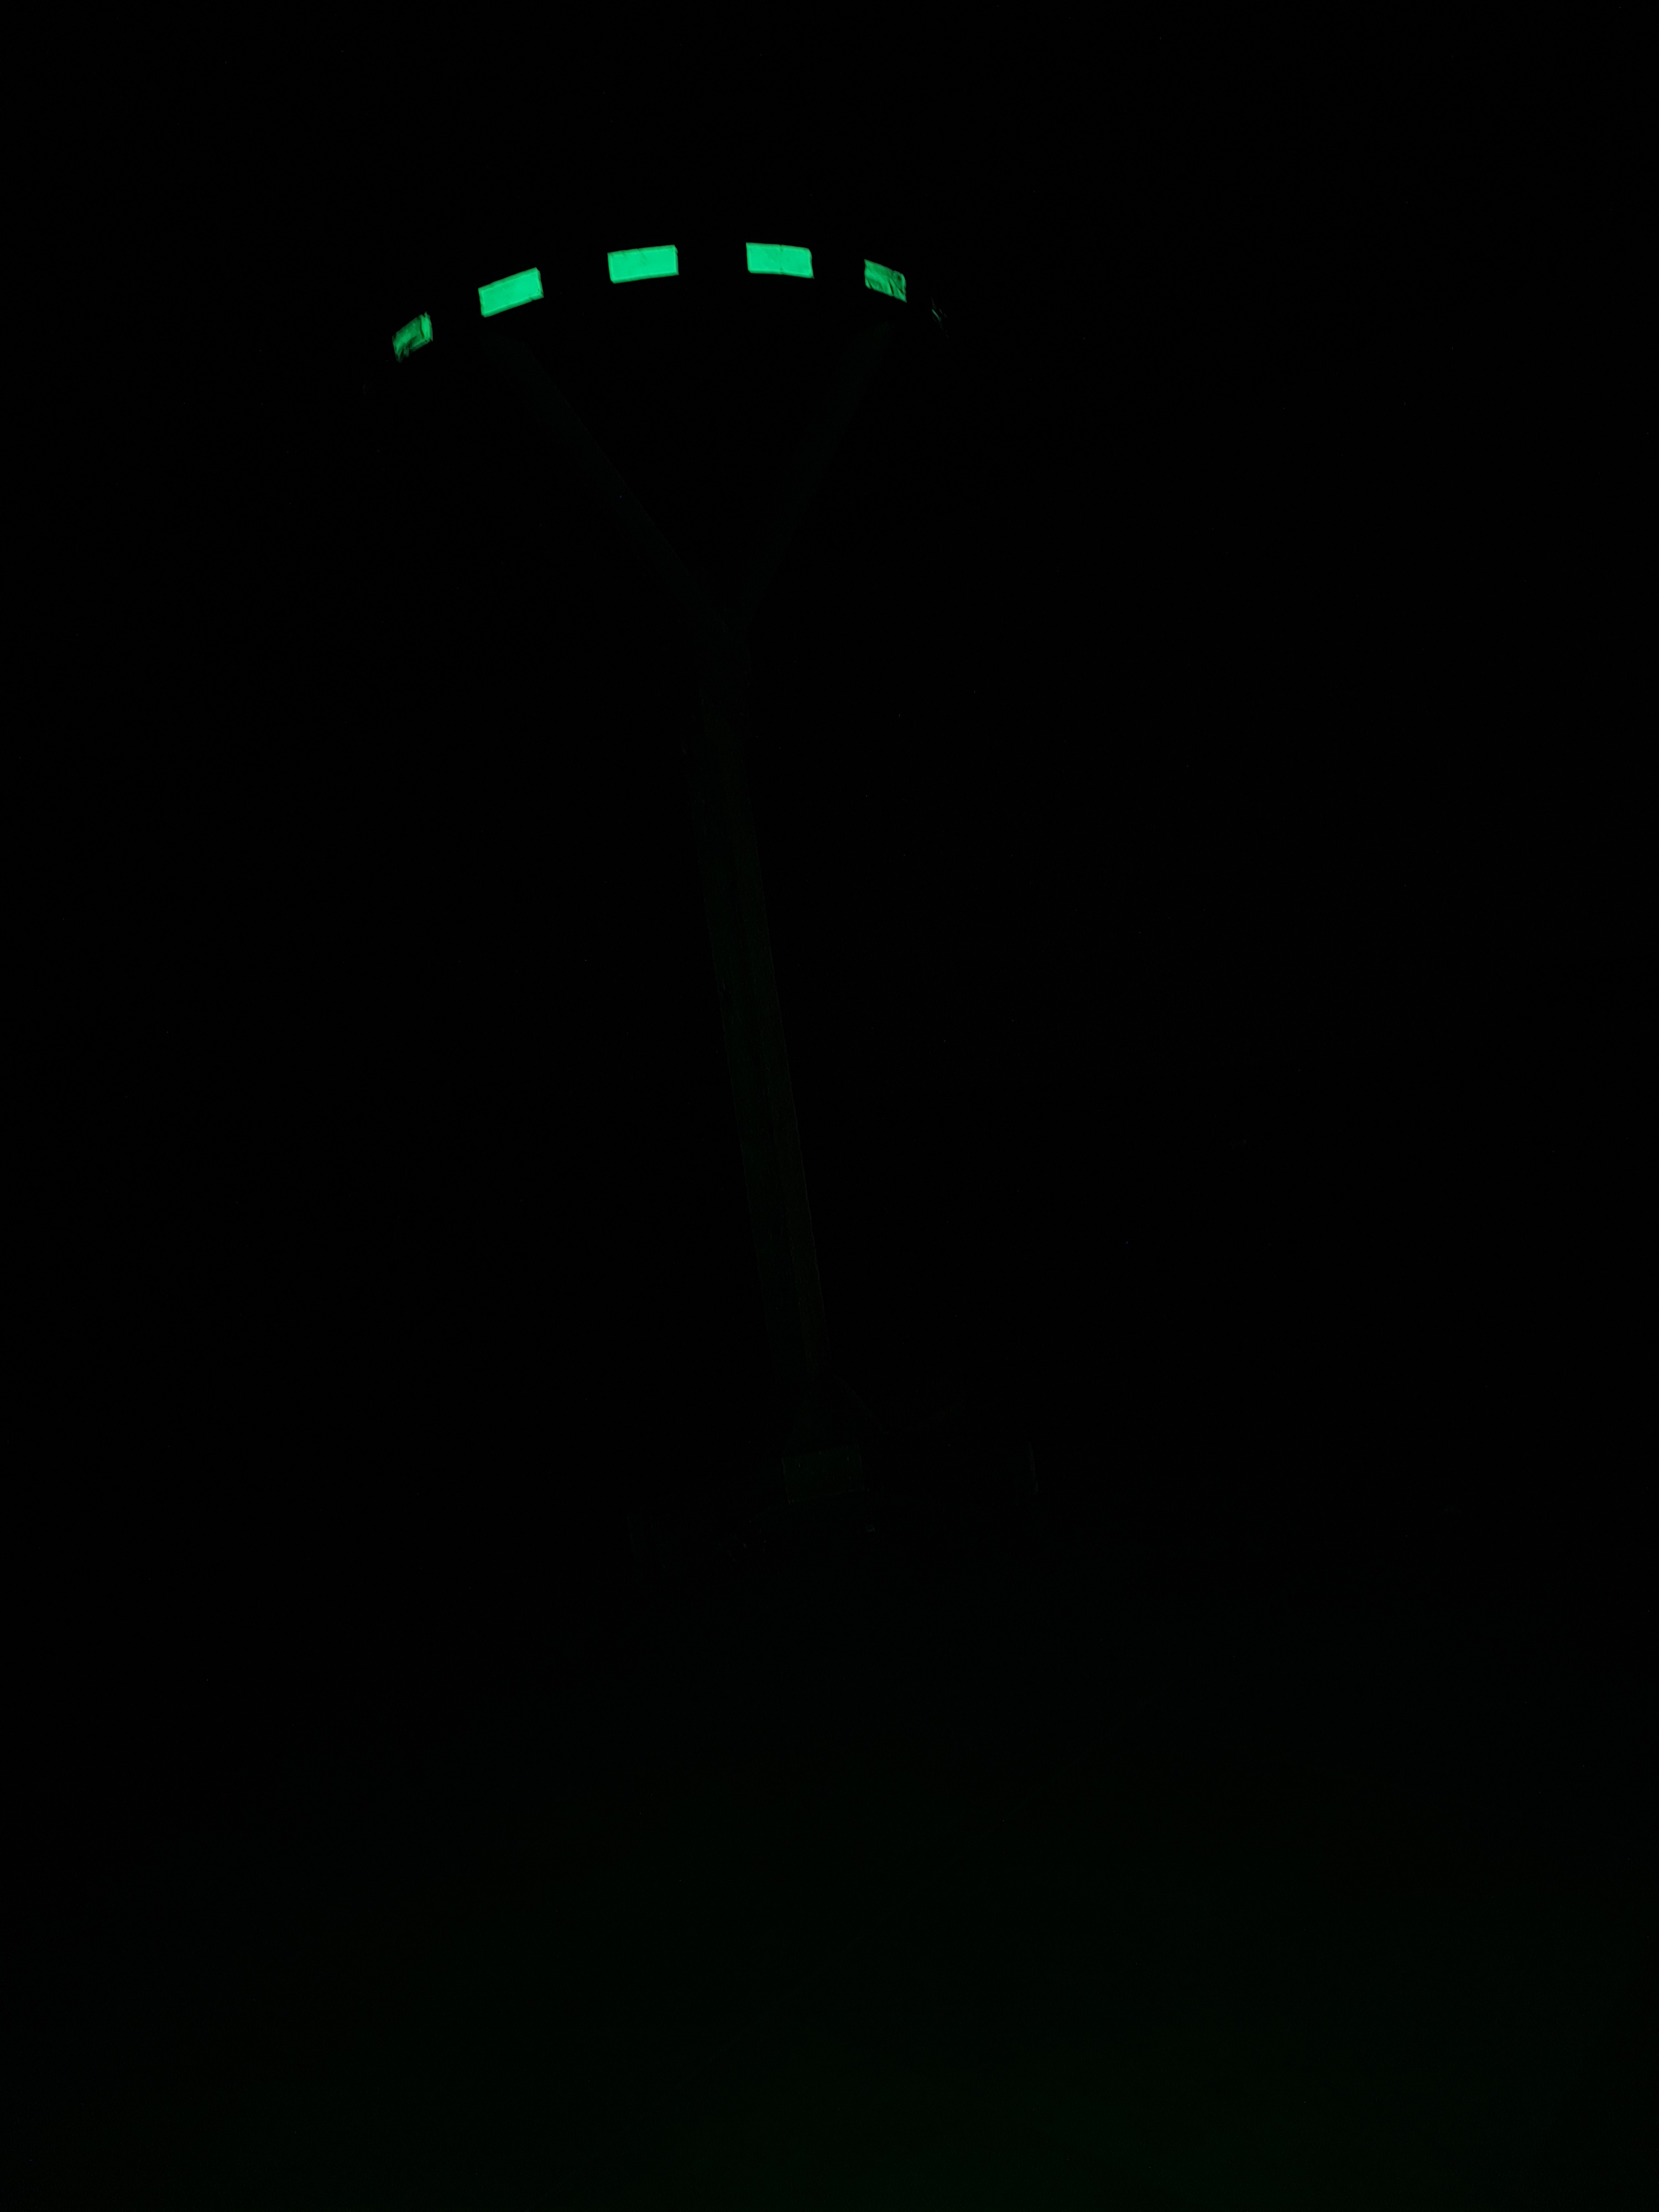hoop: (387, 233, 910, 362)
